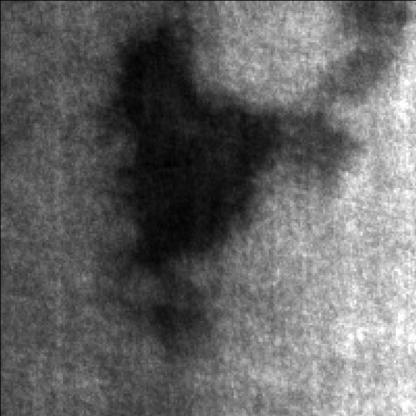patches: (119, 33, 268, 287), (283, 52, 391, 202)
